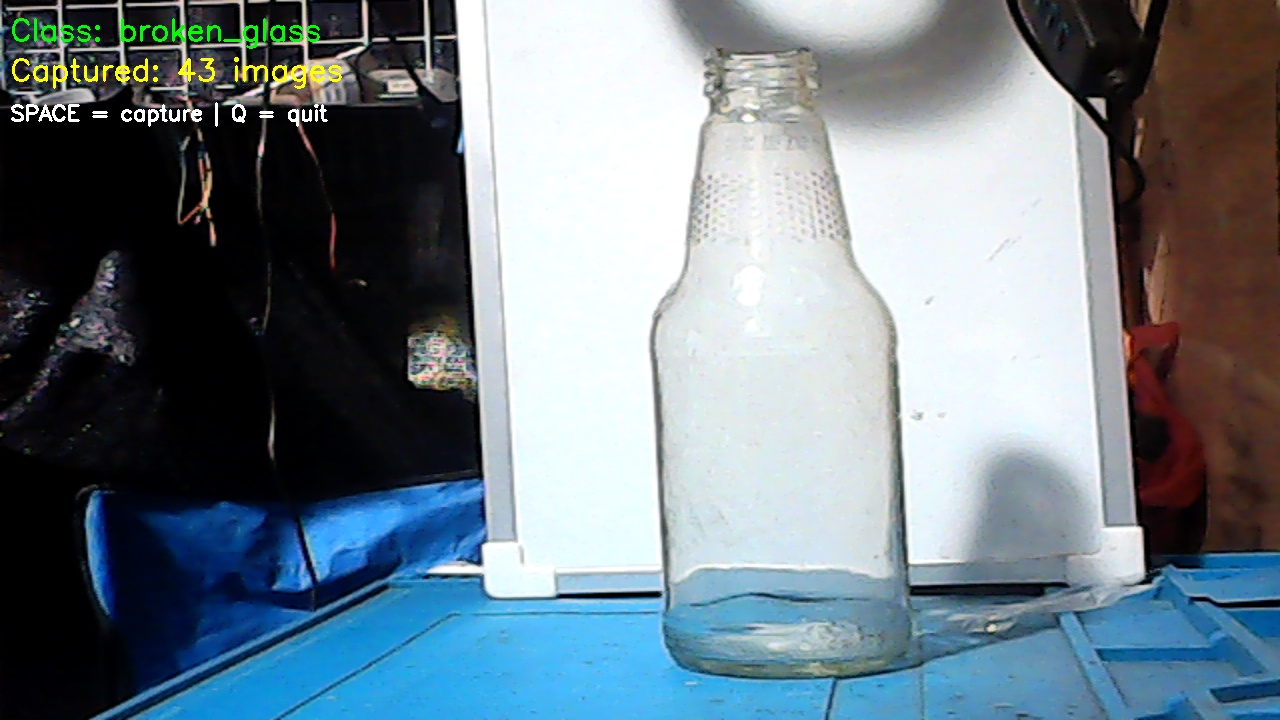broken_glass: (655, 41, 928, 687)
